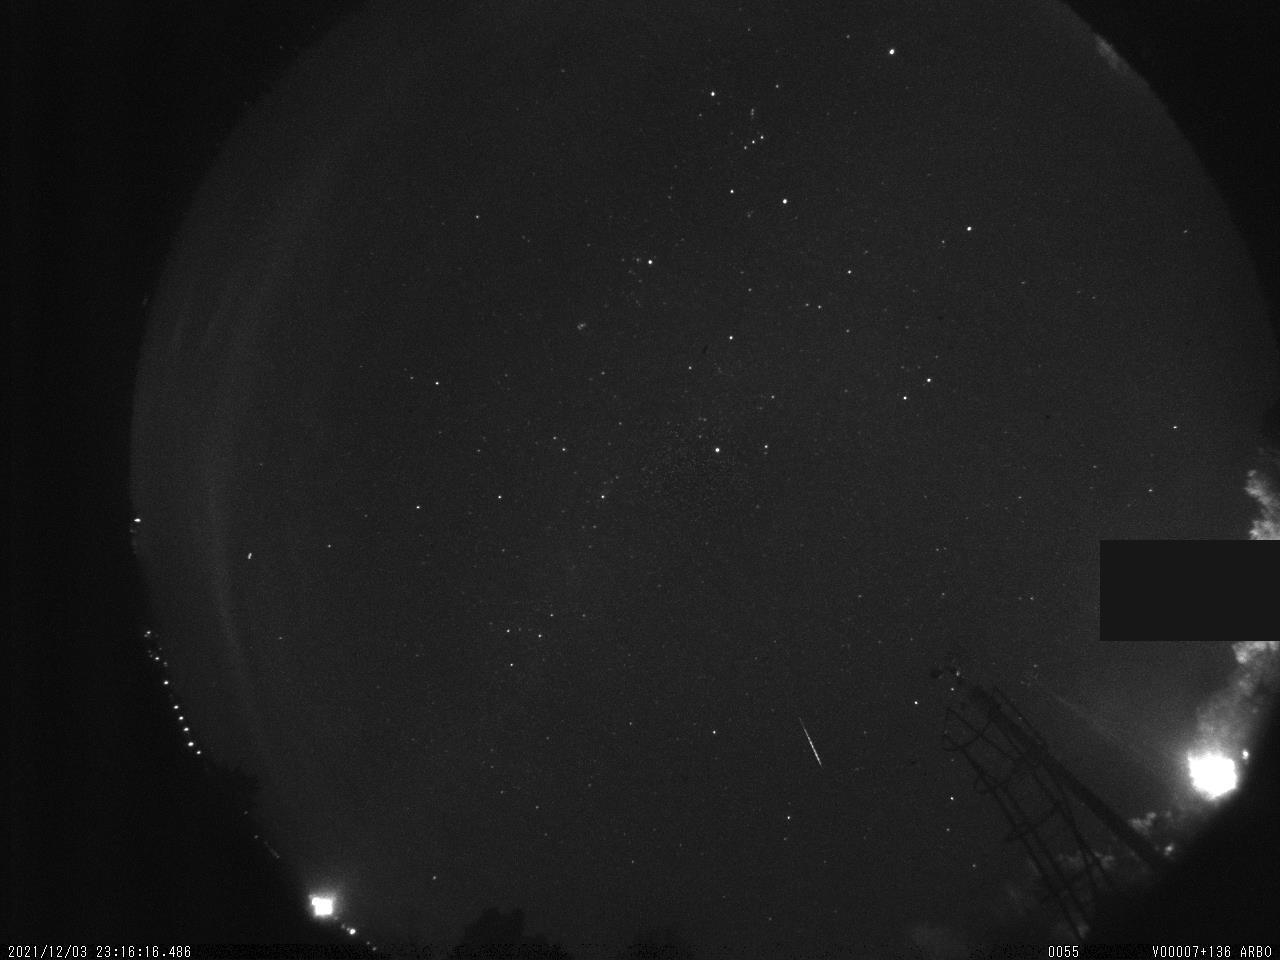meteor: (782, 704, 847, 773)
